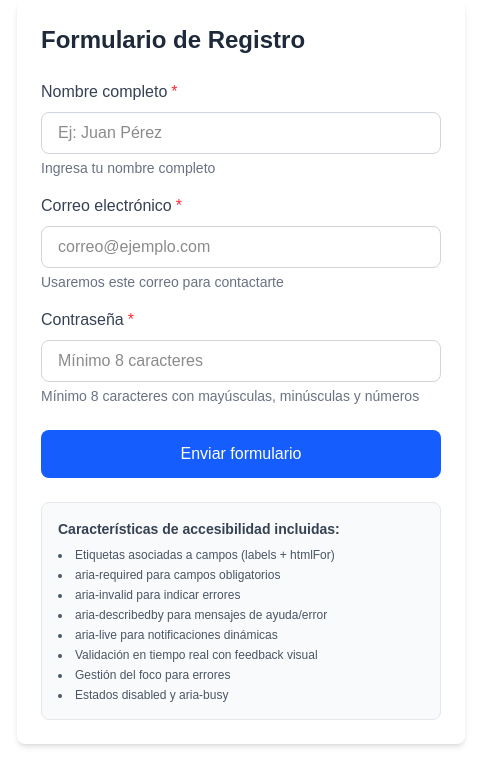
Test case: AccessibleForm › Validación de campos › muestra error cuando el nombre es muy corto
In the field labelled "Nombre completo*": (241, 133) [41, 112, 441, 154], type "J"
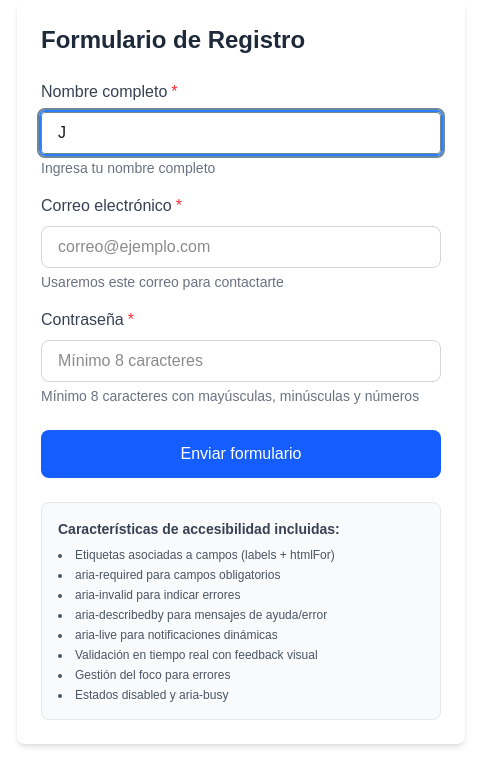
Leave the field labelled "Nombre completo*", box [41, 112, 441, 154]
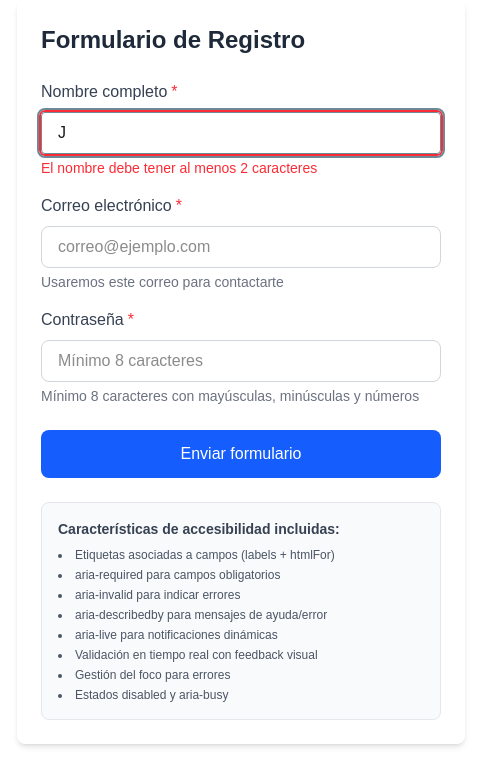
Check: the text "El nombre debe tener al menos 2 caracteres" is shown, box [41, 160, 317, 176]
